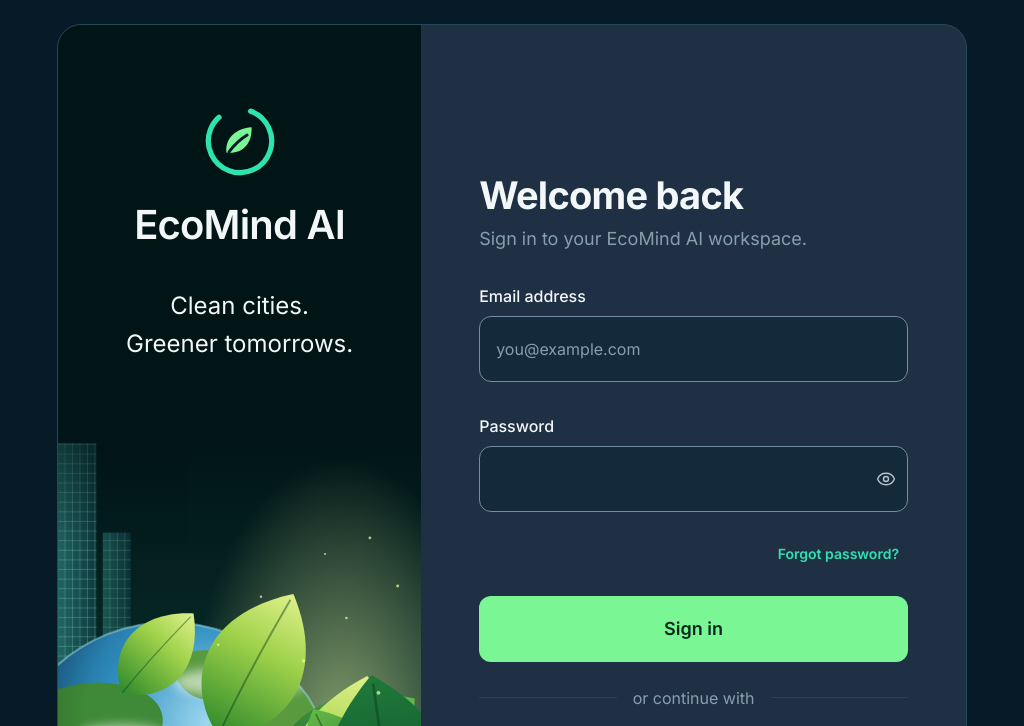
Test case: sign-in › validates fields and shows accessible errors
Click the button "Sign in" at (694, 629), box 479,596 -> 908,662
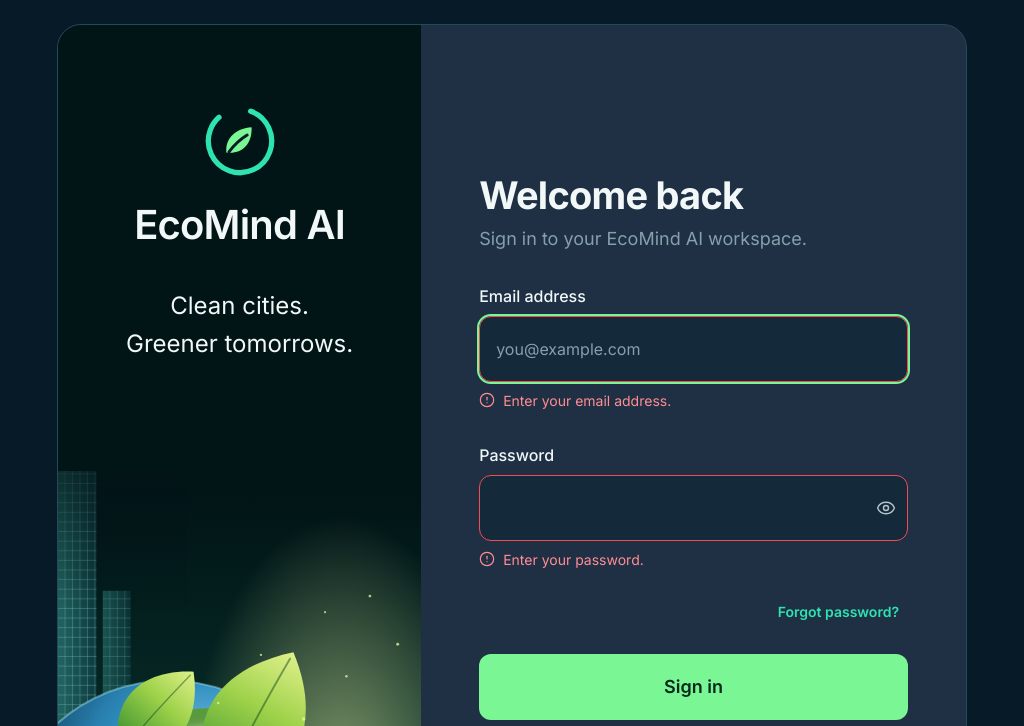
Check: the text "Enter your email address." is shown, box 479,392 -> 671,409
Check: the text "Enter your password." is shown, box 479,551 -> 644,568
